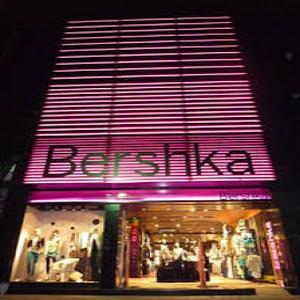bershka: (43, 139, 256, 180)
